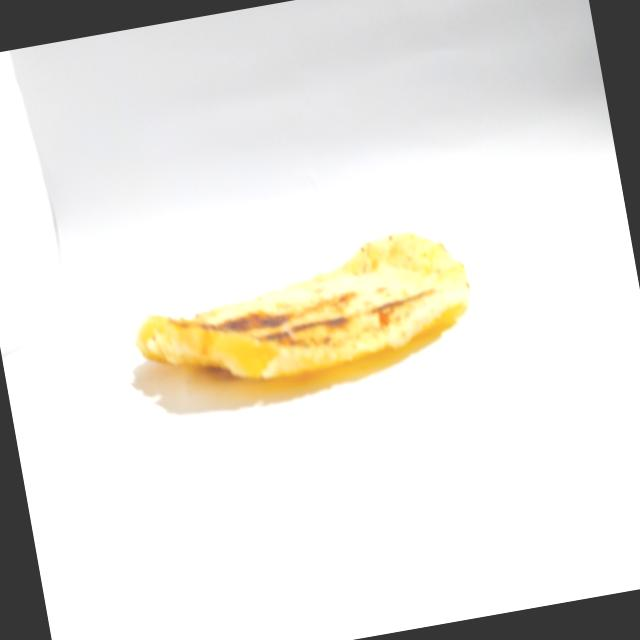Mbeju: (107, 193, 492, 428)
